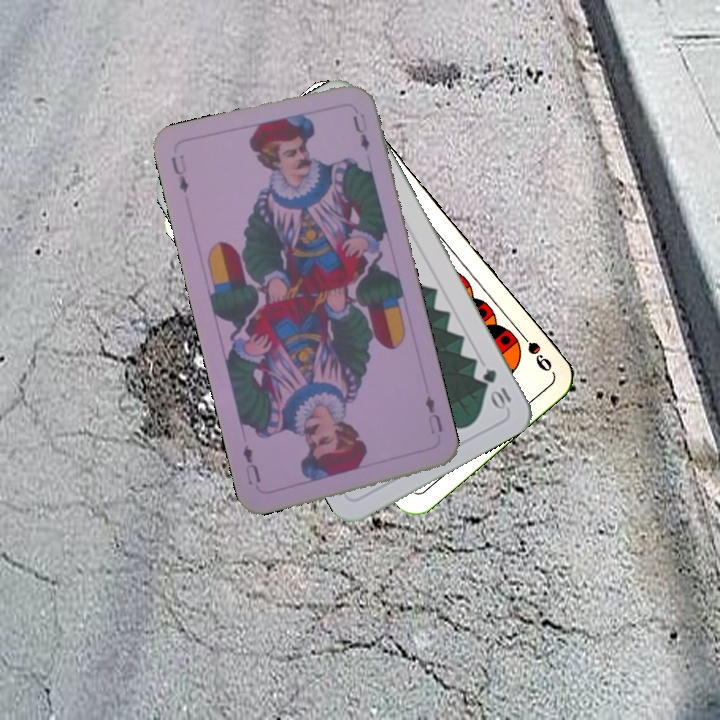EU: (421, 391, 445, 437), (167, 153, 191, 196)
G10: (478, 364, 514, 412)
S9: (512, 324, 555, 374)
